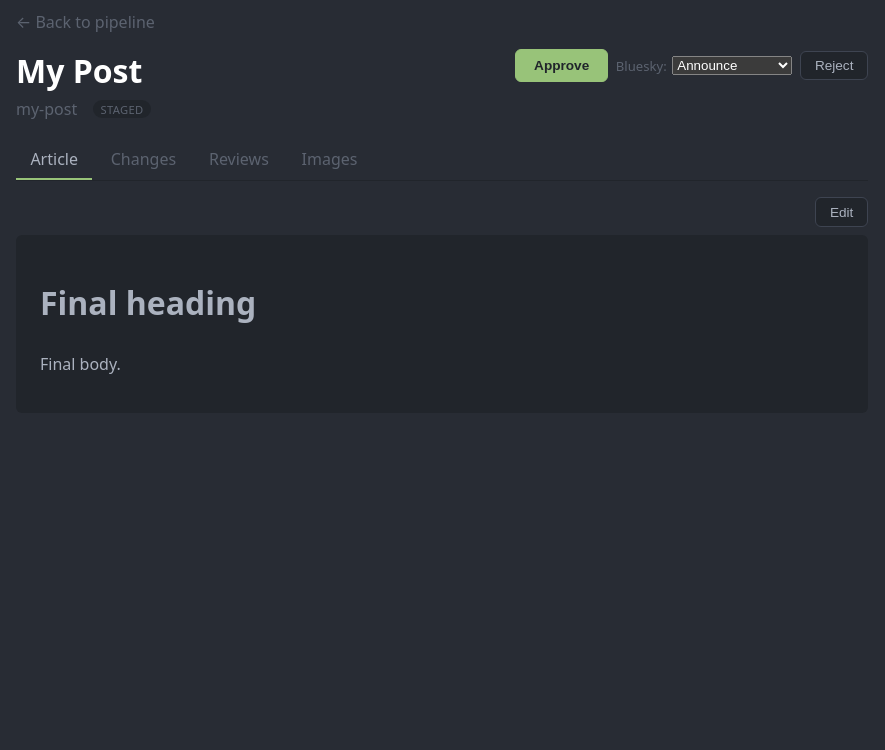
Scenario: PostDetail — actions › editing and saving writes the draft and reloads
Check: the heading "My Post" is shown, box x1=16 y1=49 x2=151 y2=92
Click the button "Edit".
click(842, 212)  # box x1=815 y1=197 x2=868 y2=227
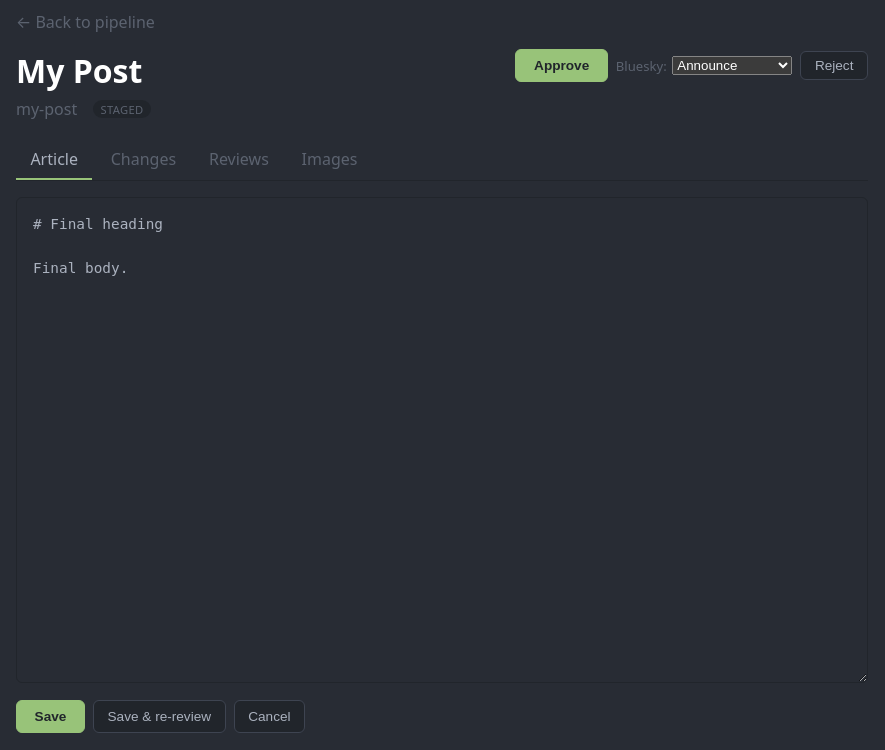
Replace the text in the text box named "Edit article Markdown" with "# Edited" at (442, 440), box x1=16 y1=197 x2=868 y2=683
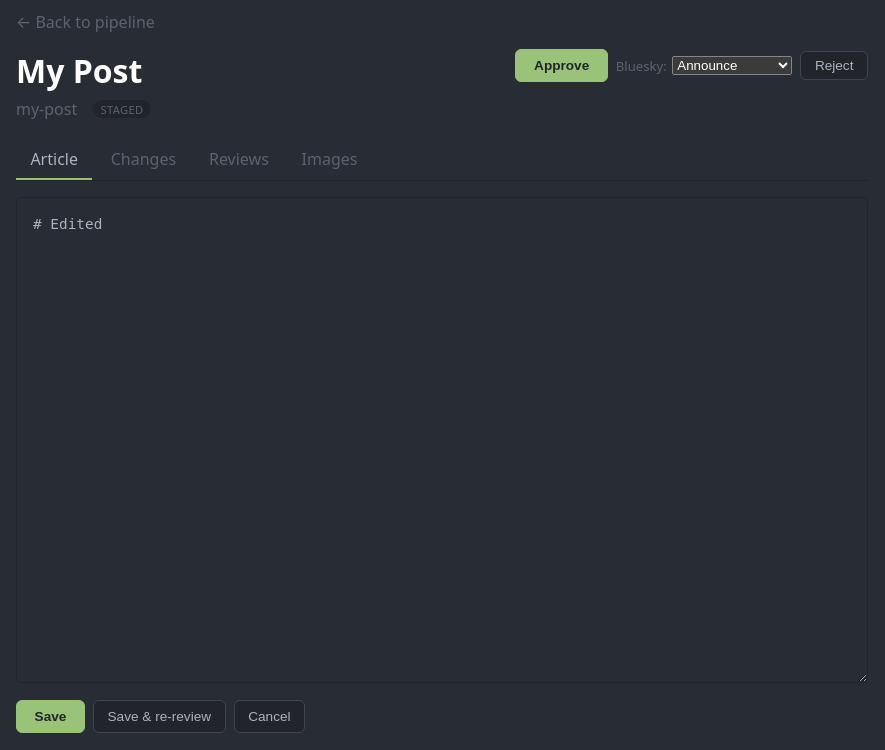
Click the button "Save".
click(50, 717)  # box x1=16 y1=700 x2=85 y2=733
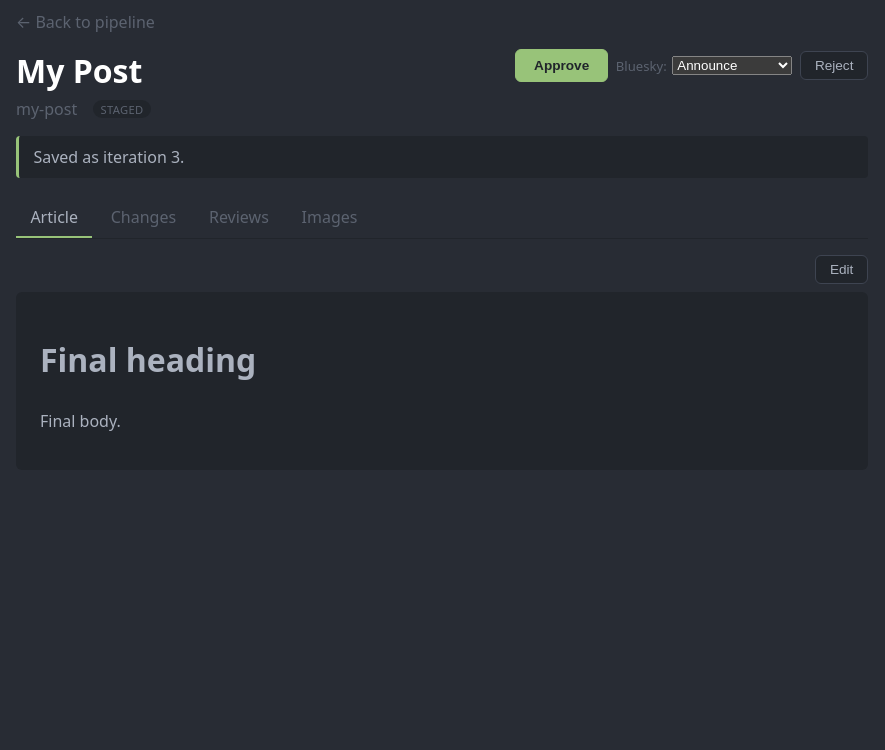
Check: the text "Saved as iteration 3." is shown, box x1=16 y1=136 x2=868 y2=178
